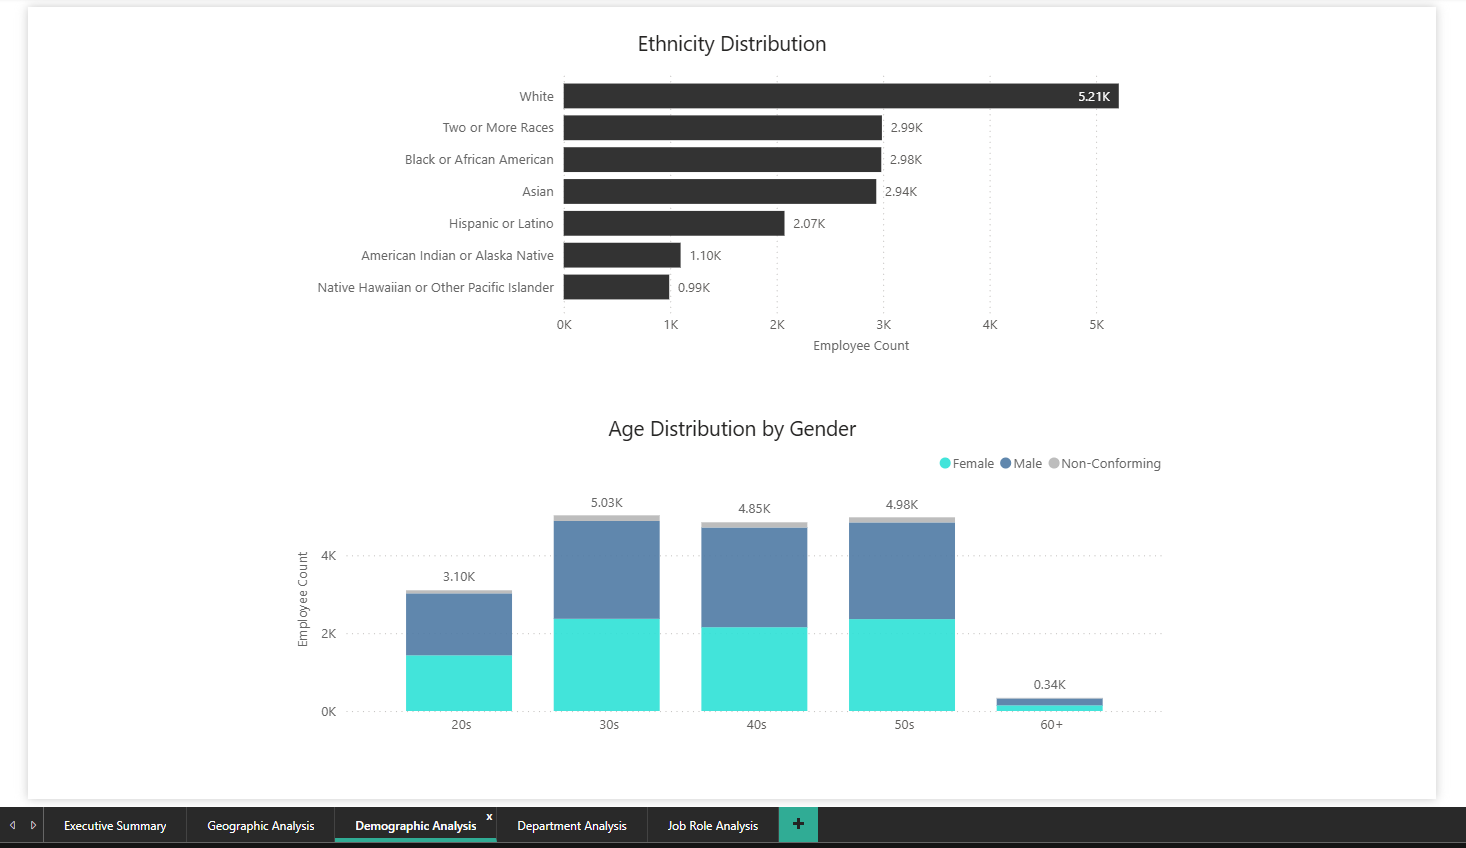

Layout of this report page (visuals, bound fields, positions):
{"tool":"powerbi","page":{"name":"Demographic Analysis","canvas":[1280,720],"ordinal":2},"visuals":[{"type":"clusteredBarChart","title":"Ethnicity Distribution","fields":{"Category":["ethnicity_distribution.race"],"Y":["Sum(ethnicity_distribution.employee_count)"]},"box":[240,20,800,300],"z":0},{"type":"columnChart","title":"Age Distribution by Gender","fields":{"Category":["age_distribution_by_gender.age_group"],"Series":["age_distribution_by_gender.gender"],"Y":["Sum(age_distribution_by_gender.employee_count)"]},"box":[240,370,800,300],"z":1000}]}

Visuals, with their boxes on the page's 1280x720 design canvas (x1, y1, x2, y2). These are canvas units, not pixel positions in the 1466x848 screenshot, which may show the page scaled, cropped or inside an application window:
"Ethnicity Distribution" clusteredBarChart: 240 20 1040 320
"Age Distribution by Gender" columnChart: 240 370 1040 670
